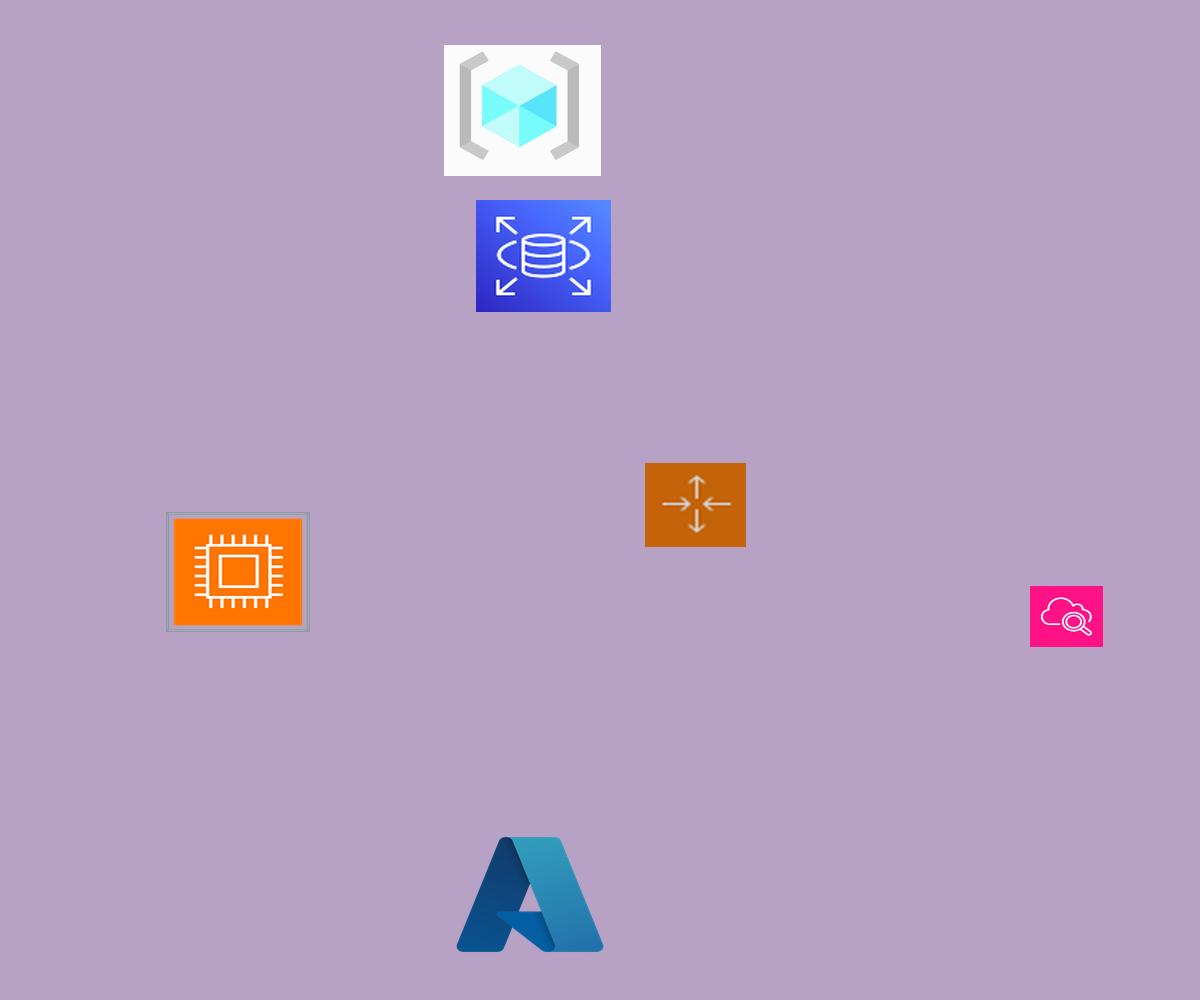AWS-Category_Compute: (166, 512, 310, 632)
AWS-CloudWatch: (1030, 586, 1103, 647)
AWS-RDS: (476, 200, 611, 312)
AWS-Scaling-group: (645, 463, 746, 547)
Azure_resource_group: (444, 45, 601, 176)
Azure_services: (450, 828, 610, 961)
